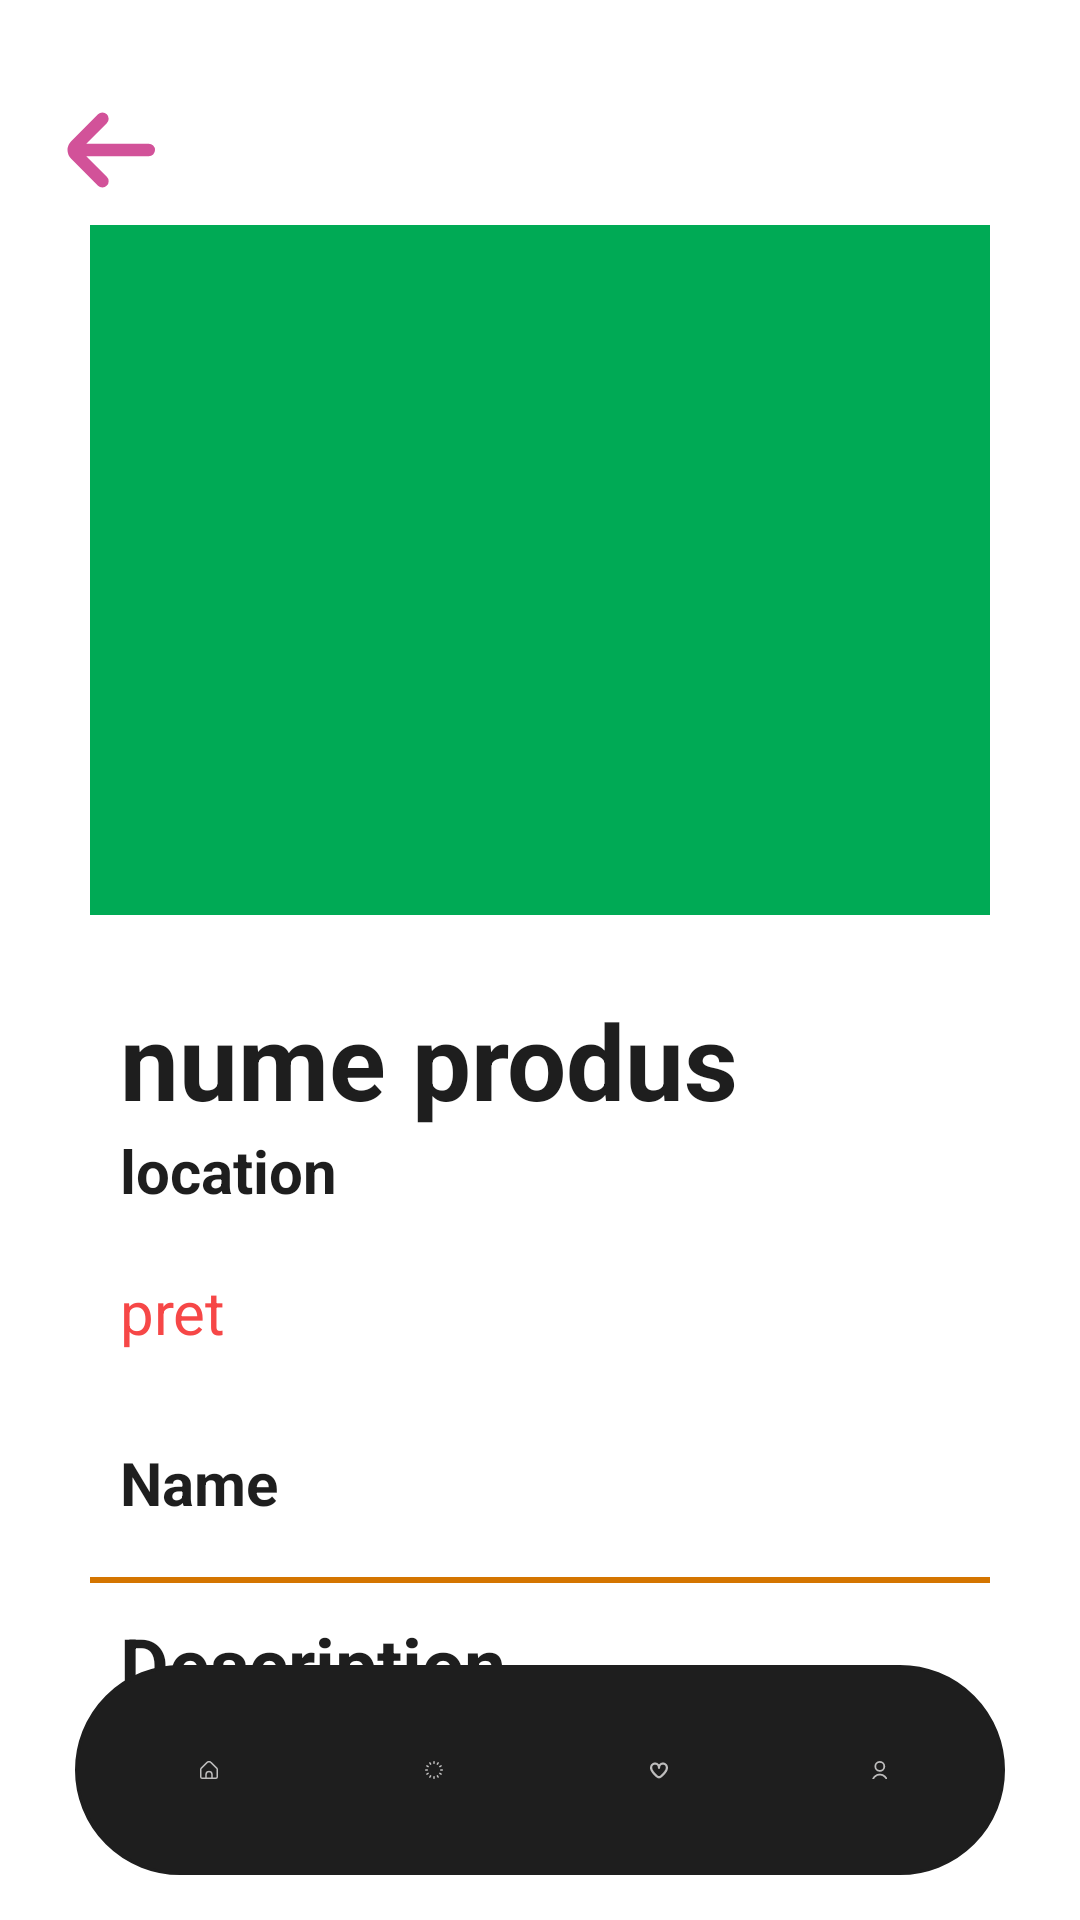

Screen size 1080 × 1920. Icon name, then its center in pixels as point (x, y):
Go back: point (111, 150)
